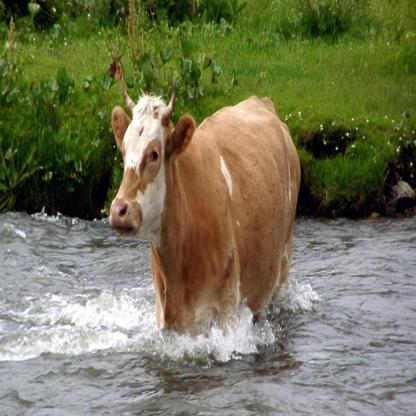cow: (108, 91, 300, 341)
